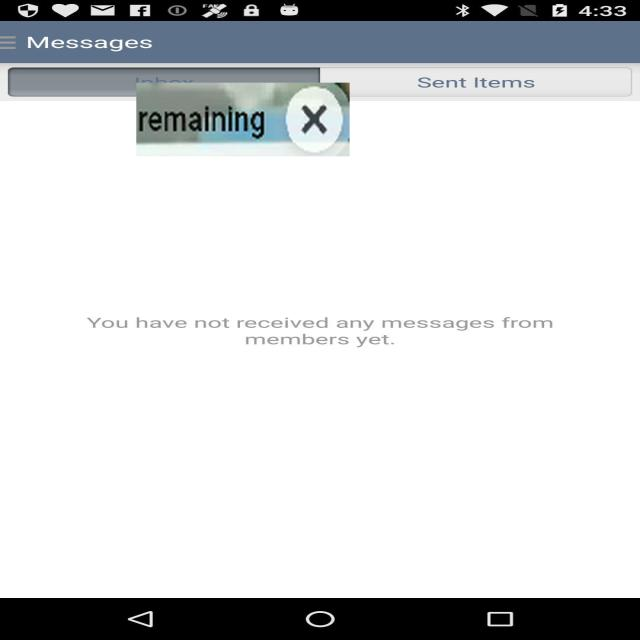misdirection: (136, 83, 350, 156)
